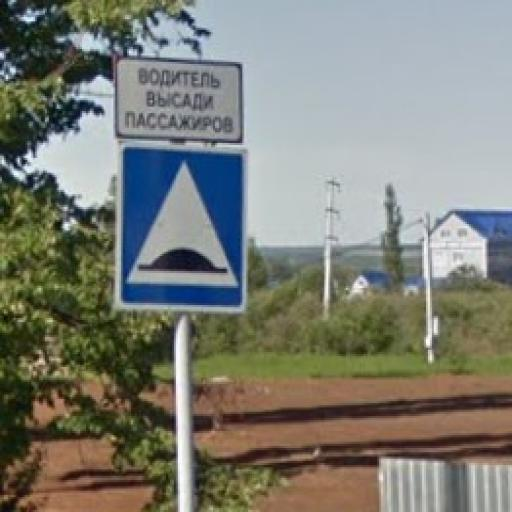traffic_sign: (115, 140, 250, 315)
